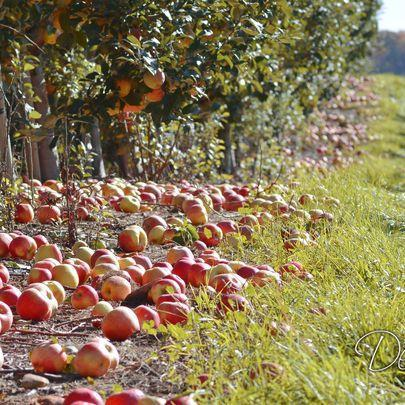apple: (75, 343, 110, 375), (103, 308, 138, 339), (17, 287, 52, 318), (30, 341, 67, 370), (7, 234, 37, 260), (119, 224, 147, 251), (50, 262, 79, 287), (181, 198, 206, 224), (195, 223, 222, 247), (71, 285, 98, 306)
